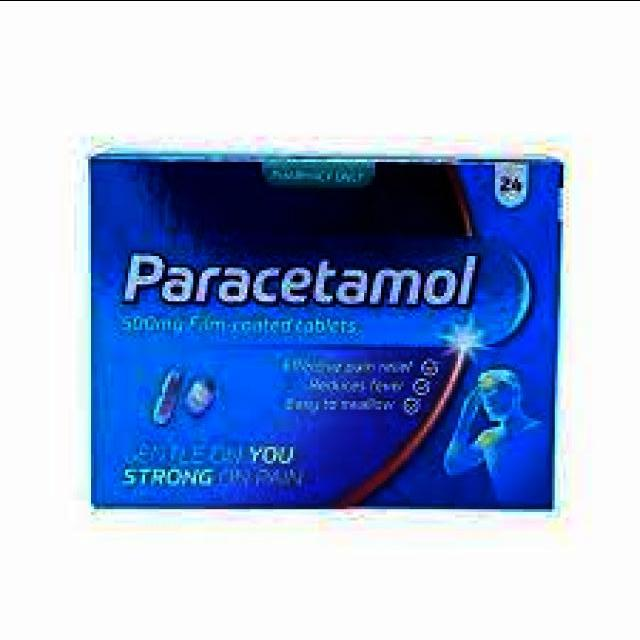authentic: (73, 133, 572, 531)
